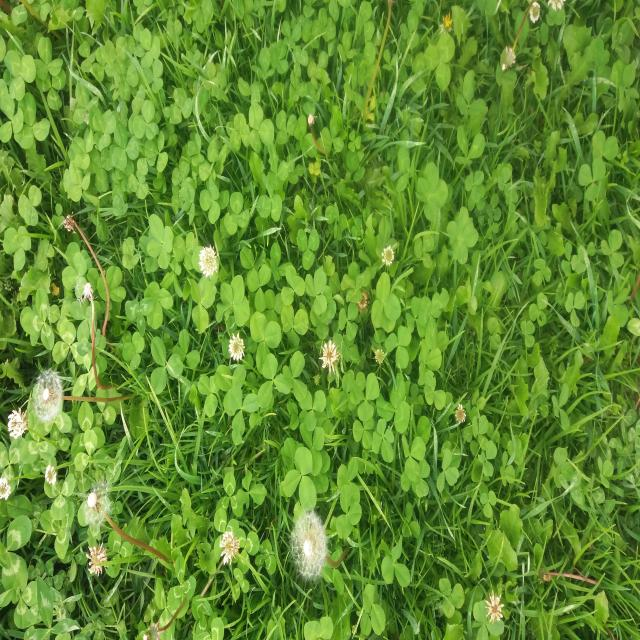Four Leaf Clover: (415, 161, 446, 222), (448, 206, 479, 264), (146, 213, 174, 269)
